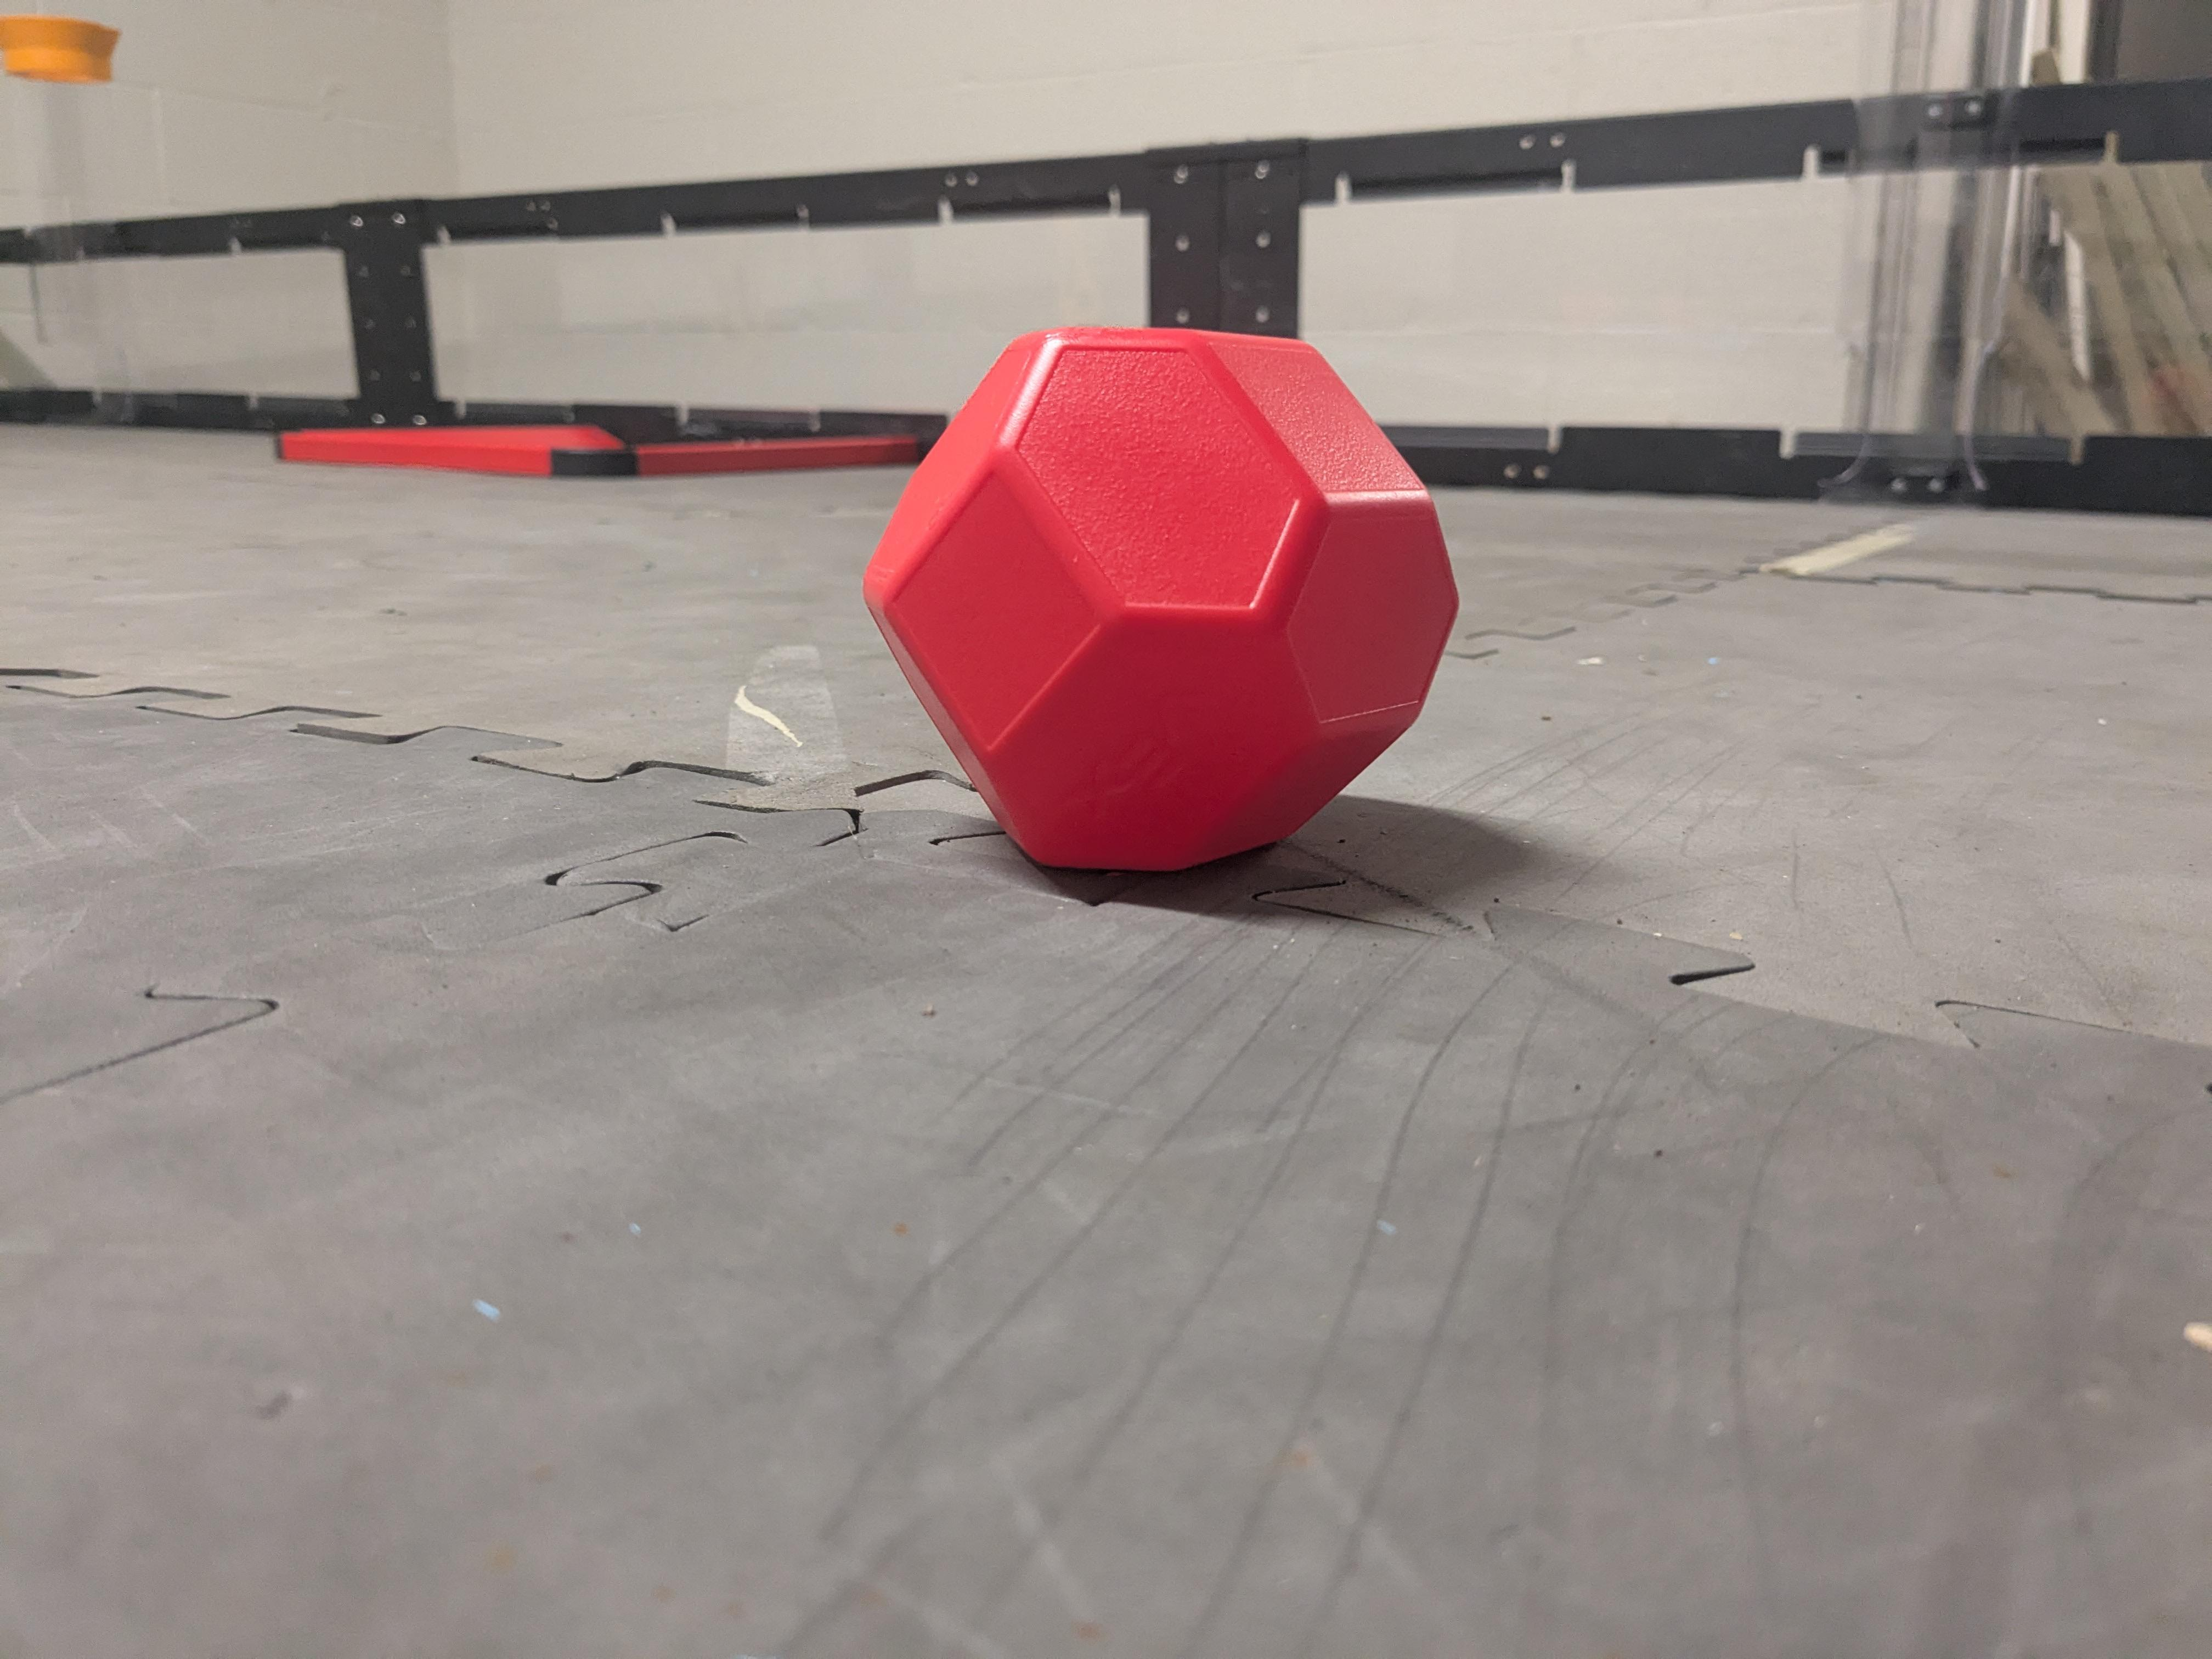Vex-Pieces-RED: (862, 329, 1458, 870)
